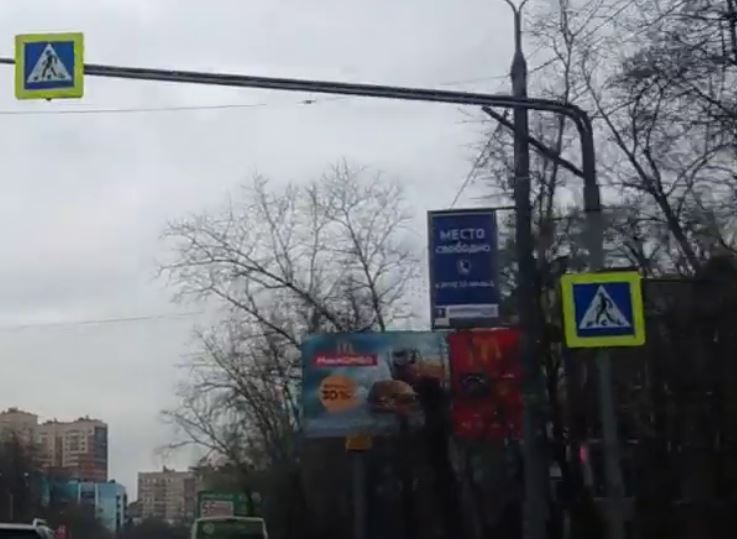Yaya Gecidi: (577, 281, 635, 335), (24, 41, 74, 89)
